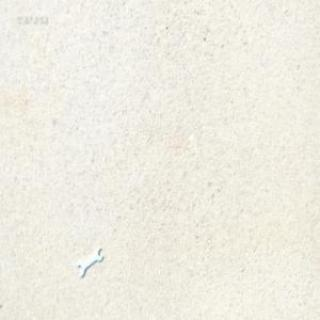Wrenchtrack_idkeyframe: (78, 248, 105, 278)
